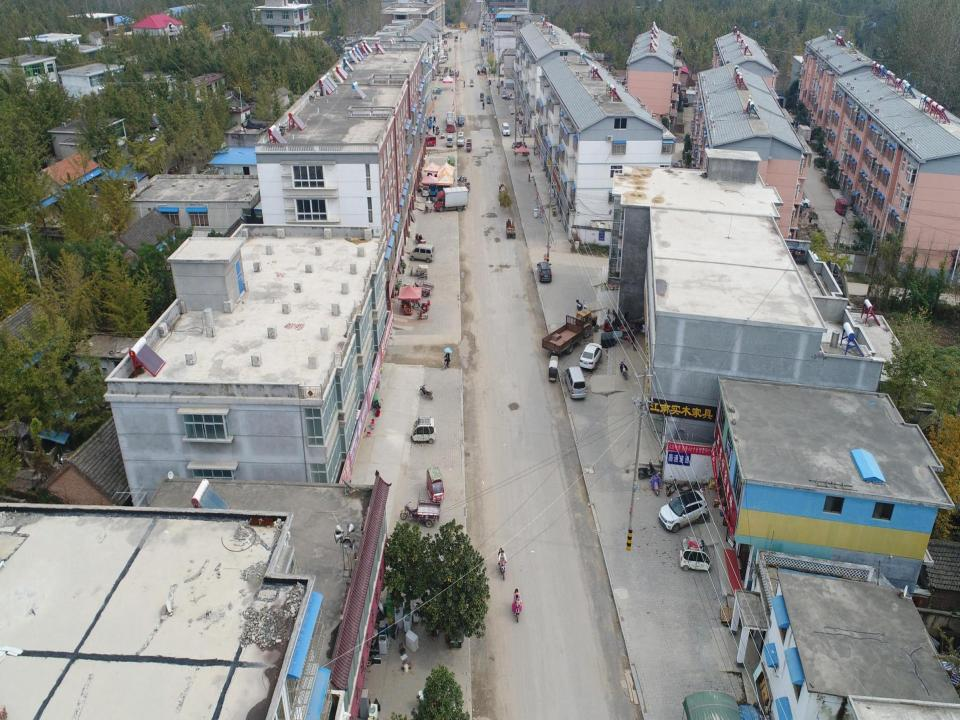car: (657, 490, 709, 533), (578, 341, 603, 372), (535, 260, 552, 284), (791, 194, 811, 210), (500, 121, 511, 137), (444, 134, 454, 148)
van: (563, 365, 588, 399), (409, 243, 435, 263), (456, 131, 466, 146), (436, 55, 448, 65), (485, 36, 491, 44), (480, 25, 487, 31)
